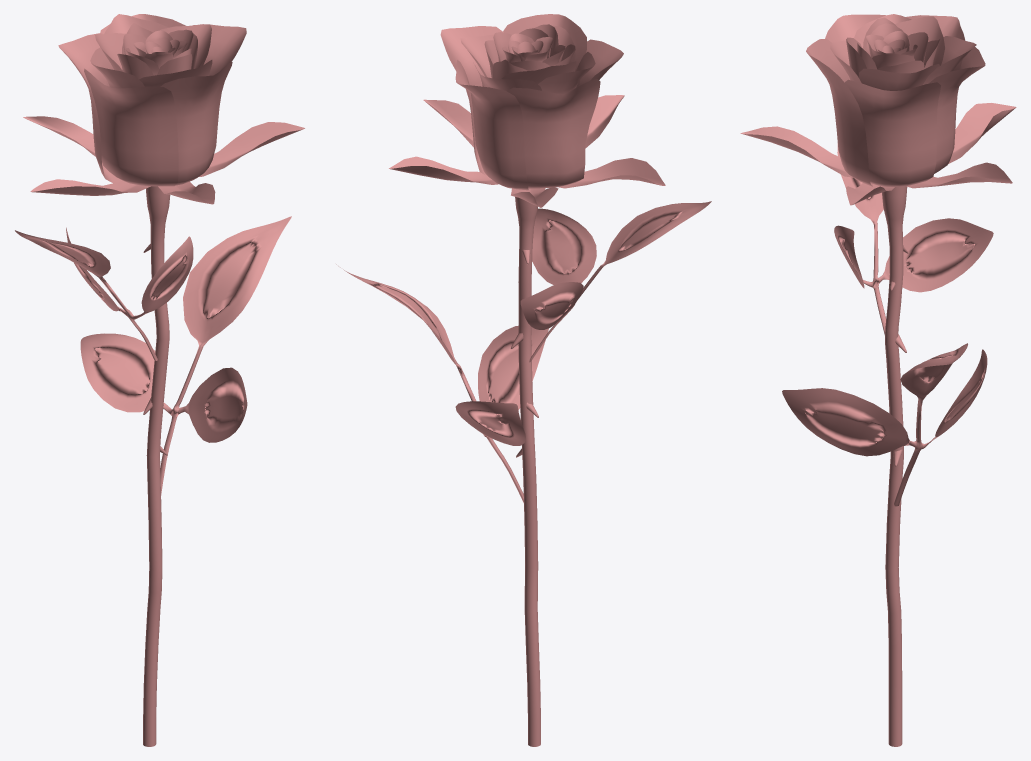
The model's file is rose.obj.
The picture shows the model from 3 angles, left to right: view 1: azimuth 30°, elevation 25°; view 2: azimuth 150°, elevation 25°; view 3: azimuth 270°, elevation 25°; orthographic projection.
Parts seen in each view (by area): view 1: rose1; view 2: rose1; view 3: rose1.
Part boxes in pixels (x1=…): rose1: x1=15, y1=14, x2=304, y2=746; rose1: x1=336, y1=14, x2=711, y2=746; rose1: x1=740, y1=14, x2=1016, y2=746.
Size of the model in its own units: 35.98 by 73.68 by 26.
